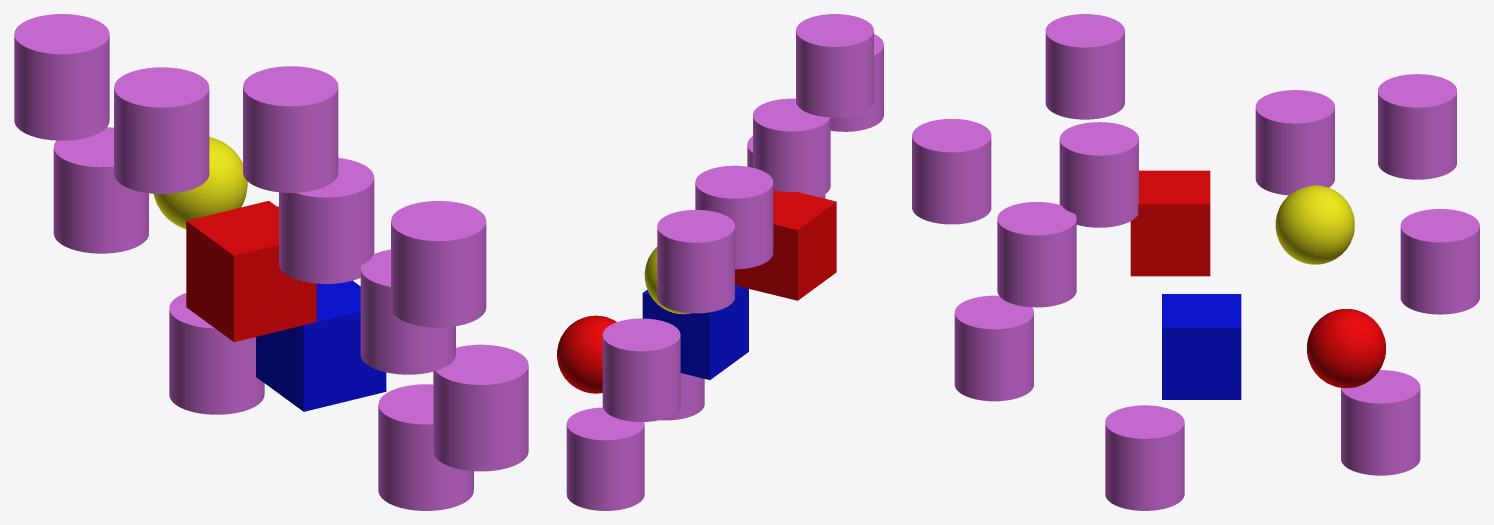
3 renders of one model, left to right at view 1: azimuth 30°, elevation 25°; view 2: azimuth 150°, elevation 25°; view 3: azimuth 270°, elevation 25°, orthographic. The views are drawn at different scales.
Visible parts, largest first — view 1: scatter; view 2: scatter; view 3: scatter.
Part boxes in pixels (x1=…): scatter: x1=14, y1=14, x2=528, y2=510; scatter: x1=557, y1=14, x2=883, y2=510; scatter: x1=912, y1=14, x2=1479, y2=510.
Size of the model in its own units: 0.096 by 0.153 by 0.1999.
